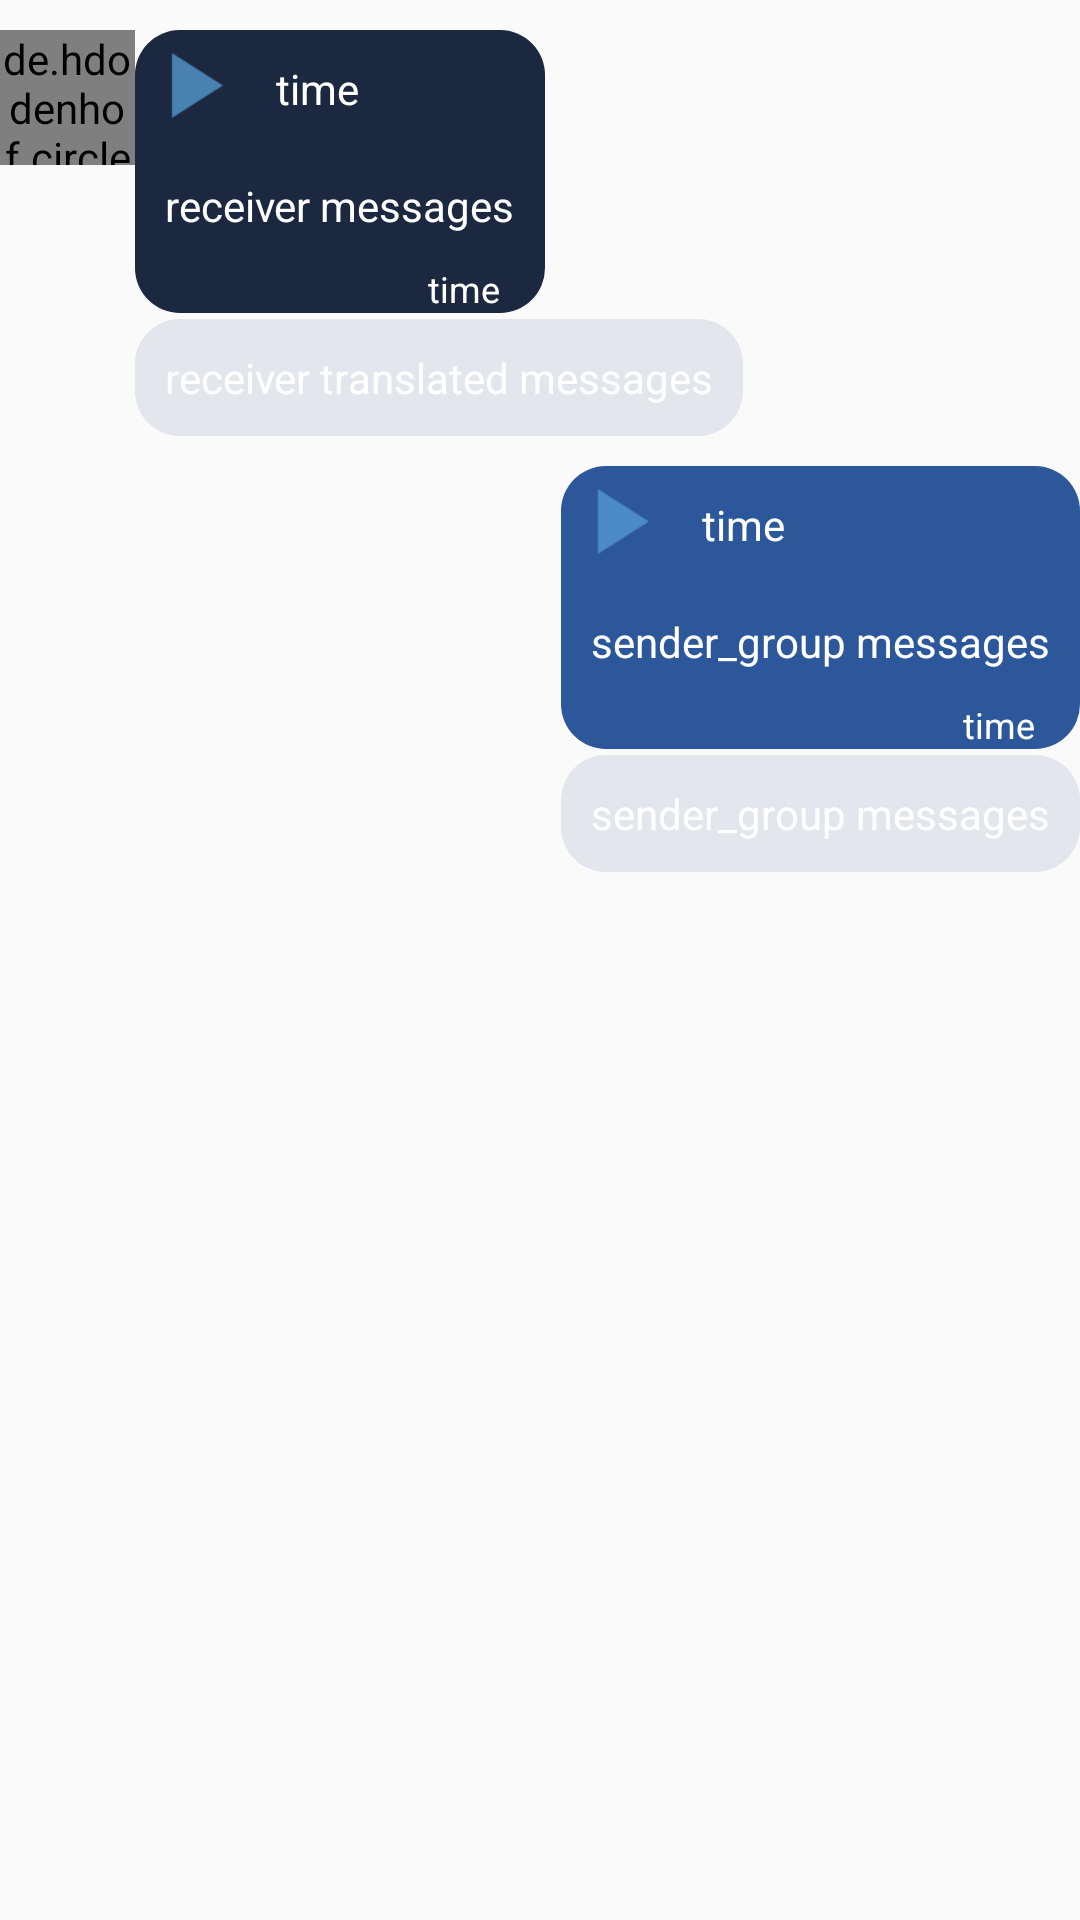

Named icons in this screenshot (1080 × 1920) and their centers, point (x, y):
play: point (190, 85), point (616, 521)
